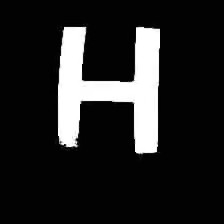LTR_H: (51, 11, 167, 158)
